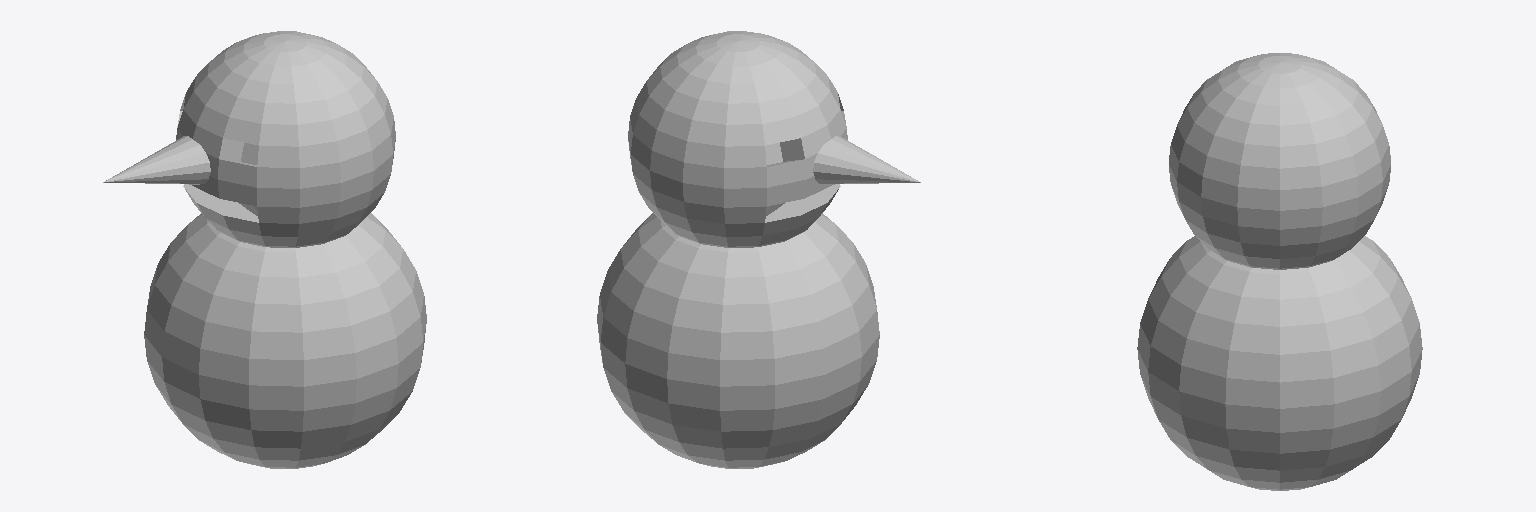
File: Gegner_alt_ohneUV.obj
3 views of the same model, side by side, from view 1: azimuth 30°, elevation 25°; view 2: azimuth 150°, elevation 25°; view 3: azimuth 270°, elevation 25° (orthographic).
Parts seen in each view (by area): view 1: Sphere.001_Sphere.002; view 2: Sphere.001_Sphere.002; view 3: Sphere.001_Sphere.002.
Boxes of the visible parts, x1=… form: Sphere.001_Sphere.002: x1=103, y1=31, x2=426, y2=468; Sphere.001_Sphere.002: x1=597, y1=31, x2=920, y2=468; Sphere.001_Sphere.002: x1=1137, y1=53, x2=1422, y2=490.
Size of the model in its own units: 1.41 by 1.83 by 1.14.